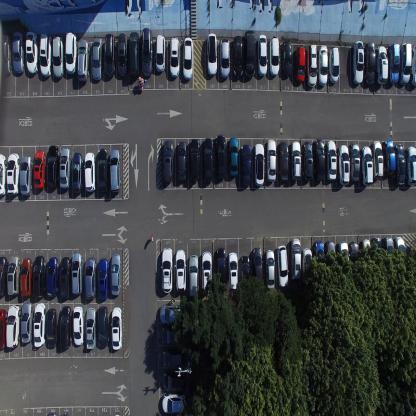car: (76, 38, 90, 82), (6, 152, 20, 196), (6, 304, 20, 348), (46, 143, 59, 190), (141, 27, 153, 76), (59, 304, 72, 349), (33, 302, 46, 347), (161, 246, 173, 294), (32, 255, 45, 299), (128, 31, 139, 81), (337, 143, 350, 185), (19, 154, 32, 196), (46, 256, 59, 298), (19, 257, 32, 299), (314, 137, 326, 182), (174, 249, 186, 294), (400, 41, 412, 86), (352, 40, 364, 85), (39, 32, 51, 77), (110, 148, 122, 193), (71, 251, 83, 296), (337, 242, 350, 283), (7, 255, 20, 296), (394, 143, 406, 187), (277, 244, 289, 288), (244, 30, 255, 78), (65, 30, 77, 74), (26, 30, 38, 74), (12, 30, 24, 74), (97, 147, 108, 195), (85, 256, 97, 300), (59, 256, 71, 300), (324, 240, 337, 280), (162, 371, 188, 391), (290, 237, 302, 280), (52, 35, 64, 78), (97, 257, 109, 300), (162, 140, 173, 186), (215, 134, 226, 180), (91, 36, 102, 82), (162, 350, 190, 368), (161, 392, 185, 413), (388, 42, 400, 84), (268, 35, 280, 77), (97, 306, 109, 348), (306, 43, 317, 88), (159, 305, 185, 324), (161, 327, 187, 346), (290, 140, 302, 181), (313, 239, 325, 280), (376, 44, 388, 85), (84, 151, 96, 192), (33, 148, 45, 189), (189, 138, 200, 182), (240, 142, 251, 186), (278, 139, 289, 183), (364, 42, 375, 86), (182, 35, 193, 79), (72, 150, 83, 194), (59, 146, 70, 190), (110, 252, 121, 296), (111, 307, 122, 351), (21, 301, 32, 345), (383, 138, 396, 175), (302, 141, 314, 181), (361, 145, 373, 185), (394, 236, 406, 276), (382, 236, 394, 276), (72, 306, 84, 346), (266, 139, 277, 182), (252, 246, 263, 289), (317, 43, 328, 86), (203, 136, 213, 183), (117, 32, 127, 79), (257, 34, 268, 76), (104, 34, 115, 76), (85, 308, 96, 350), (46, 308, 57, 350), (372, 140, 384, 178), (328, 46, 340, 84), (349, 142, 360, 183), (201, 250, 212, 291), (0, 35, 11, 76), (188, 253, 198, 298), (207, 31, 217, 76), (177, 140, 187, 184), (254, 142, 264, 186), (349, 240, 360, 280), (295, 44, 306, 84), (169, 34, 179, 78), (326, 139, 336, 182), (233, 35, 243, 78), (228, 250, 238, 292), (371, 237, 382, 275), (281, 40, 292, 78), (228, 136, 238, 177), (265, 248, 275, 289), (220, 38, 230, 79), (155, 33, 165, 73), (240, 254, 249, 298), (216, 246, 225, 290), (302, 247, 312, 286), (406, 145, 415, 187), (361, 238, 370, 276), (0, 256, 8, 298), (0, 308, 7, 351), (0, 152, 6, 198), (410, 45, 416, 88), (46, 410, 58, 415), (61, 411, 70, 415)
